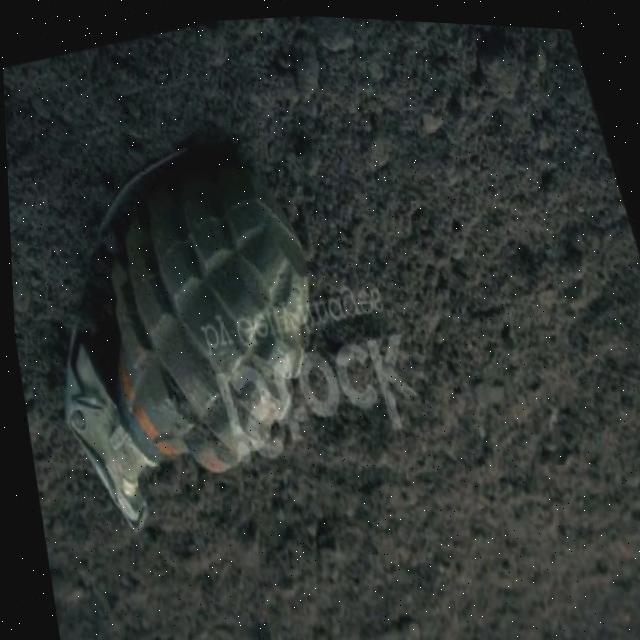grenade: (3, 82, 381, 560)
